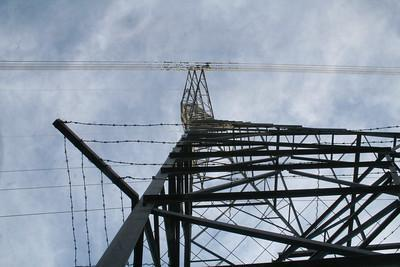power_tower: (55, 46, 400, 267)
